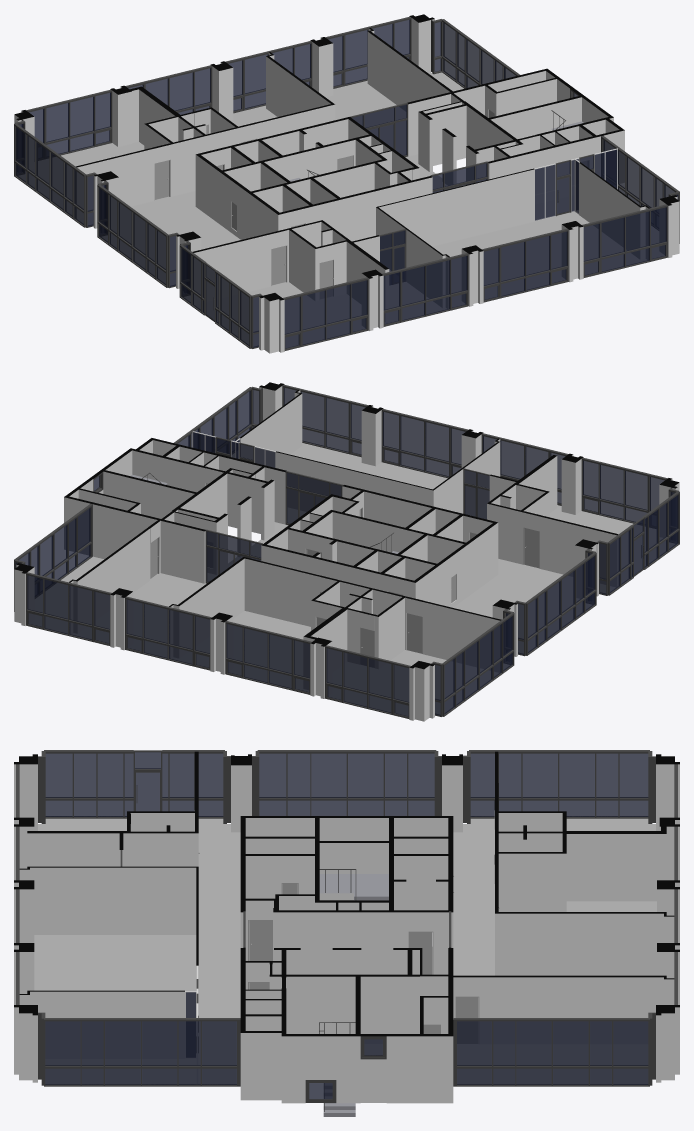
3 renders of one model, top to bottom at view 1: azimuth 30°, elevation 25°; view 2: azimuth 150°, elevation 25°; view 3: azimuth 270°, elevation 25°, orthographic. The views are drawn at different scales.
Visible parts, largest first — view 1: 13F, Shape094, Plane125, Line071, Plane122; view 2: 13F, Shape094, Plane125, Line071, Plane122; view 3: 13F, Shape094, Plane125, Line071, Plane122, stair120, Box3173, stair121.
Part boxes in pixels (box(x1,y1,x2,y2)): 13F: box(14, 16, 679, 350); Shape094: box(14, 14, 679, 353); Plane125: box(76, 28, 649, 308); Line071: box(19, 72, 664, 347); Plane122: box(367, 31, 452, 110); 13F: box(14, 384, 679, 718); Shape094: box(14, 382, 679, 721); Plane125: box(69, 389, 549, 689); Line071: box(29, 443, 674, 715); Plane122: box(75, 520, 160, 633); 13F: box(16, 750, 677, 1102); Shape094: box(14, 754, 679, 1103); Plane125: box(19, 751, 674, 1058); Line071: box(34, 818, 656, 1083); Plane122: box(453, 975, 666, 1043); stair120: box(319, 869, 388, 900); Box3173: box(305, 1034, 336, 1079); stair121: box(319, 1022, 355, 1116).
Bounding box in the file's own units: 27.4 × 4.61 × 26.95.
Materials: 7 (1 with a texture image).
